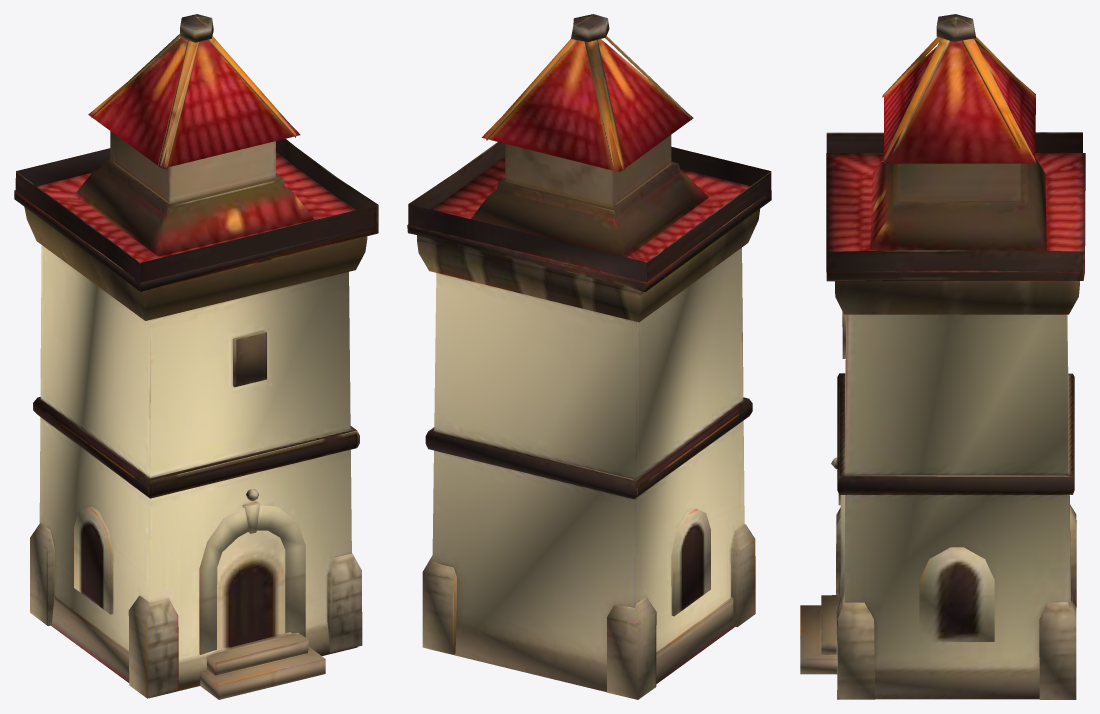
Rendered from arena-watchtower.glb.
3 views of the same model, side by side, from view 1: azimuth 30°, elevation 25°; view 2: azimuth 150°, elevation 25°; view 3: azimuth 270°, elevation 25° (orthographic). The views are drawn at different scales.
Size of the model in its own units: 0.3862 by 0.9517 by 0.3906.
1 material, 1 textured.
